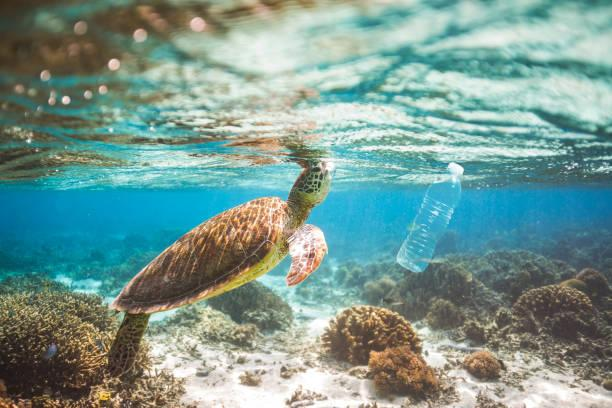Plastic: (399, 163, 471, 271)
